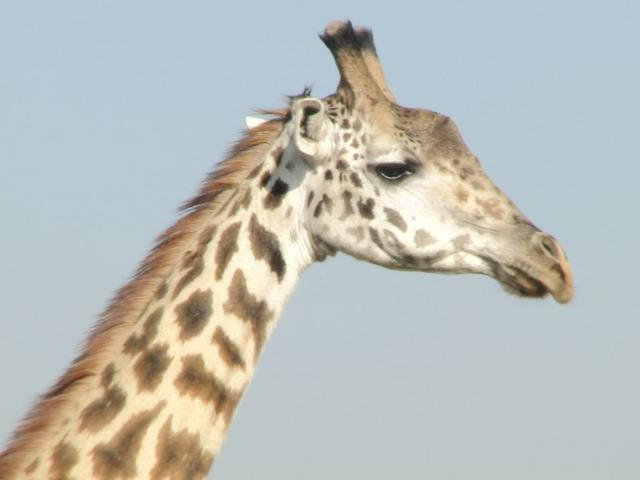giraffe: (55, 29, 611, 448)
